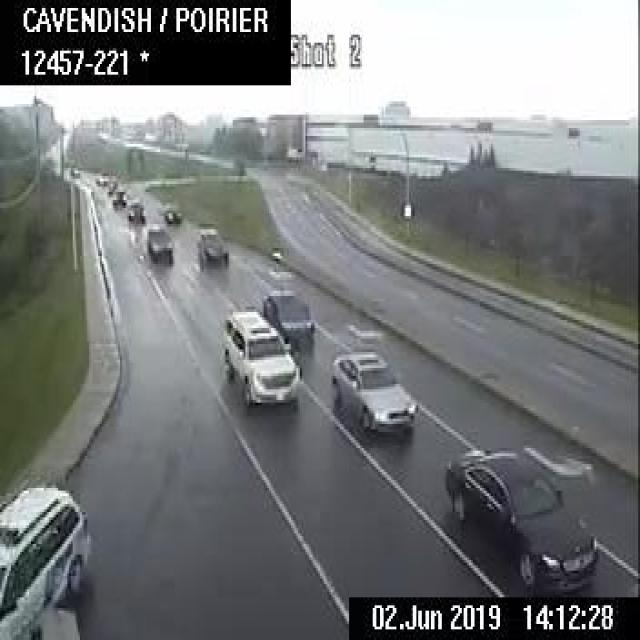vehicle: (444, 443, 596, 584), (0, 483, 89, 637), (222, 307, 300, 403), (329, 344, 416, 427), (262, 290, 313, 341), (195, 226, 228, 268), (146, 223, 173, 258), (126, 198, 144, 221), (162, 201, 181, 222), (110, 187, 125, 205), (105, 176, 117, 192), (93, 172, 105, 183), (68, 165, 78, 177)
